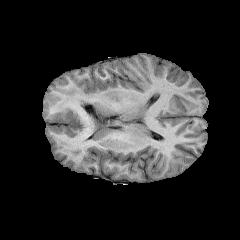glioma: (43, 91, 122, 135)
